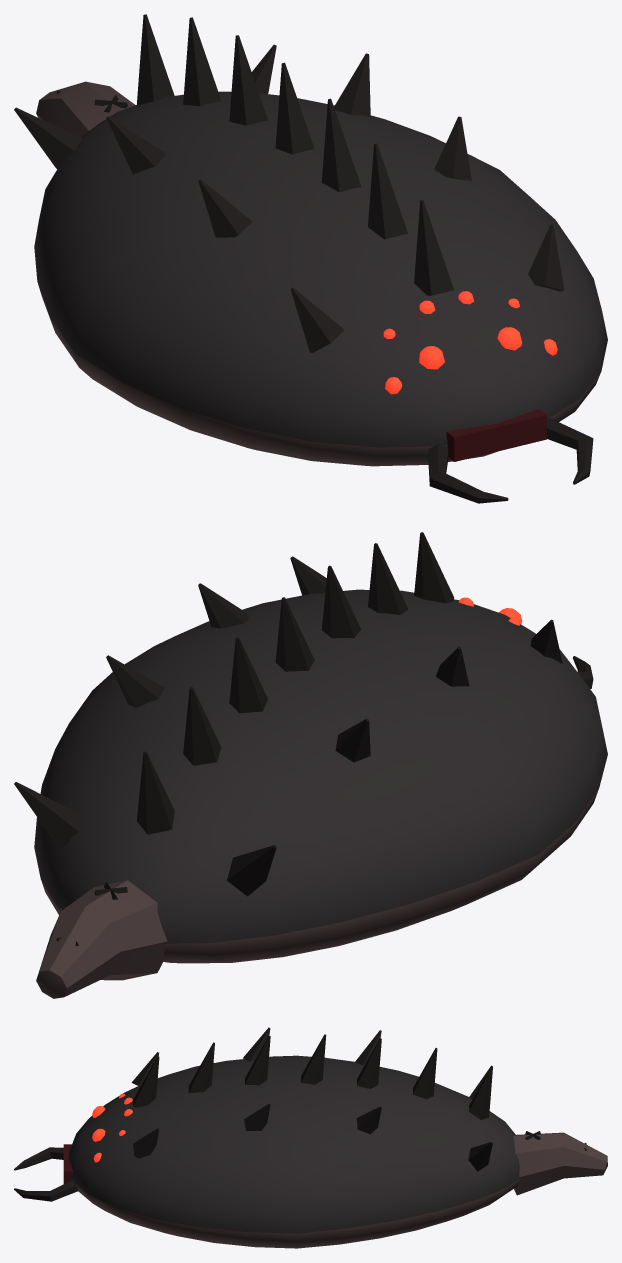
Rendered from crawler_body.glb.
3 renders of one model, top to bottom at view 1: azimuth 30°, elevation 25°; view 2: azimuth 150°, elevation 25°; view 3: azimuth 270°, elevation 25°, orthographic. The views are drawn at different scales.
Parts seen in each view (by area): view 1: crawler_body, pincer_R, pincer_L; view 2: crawler_body; view 3: crawler_body, pincer_L, pincer_R.
Part boxes in pixels (bbox=[...]): crawler_body: bbox=[14, 14, 607, 466]; pincer_R: bbox=[428, 444, 508, 503]; pincer_L: bbox=[547, 417, 593, 484]; crawler_body: bbox=[14, 532, 607, 998]; crawler_body: bbox=[63, 1027, 607, 1248]; pincer_L: bbox=[14, 1180, 78, 1201]; pincer_R: bbox=[14, 1147, 63, 1170].
Size of the model in its own units: 0.63 by 0.3831 by 1.16.
